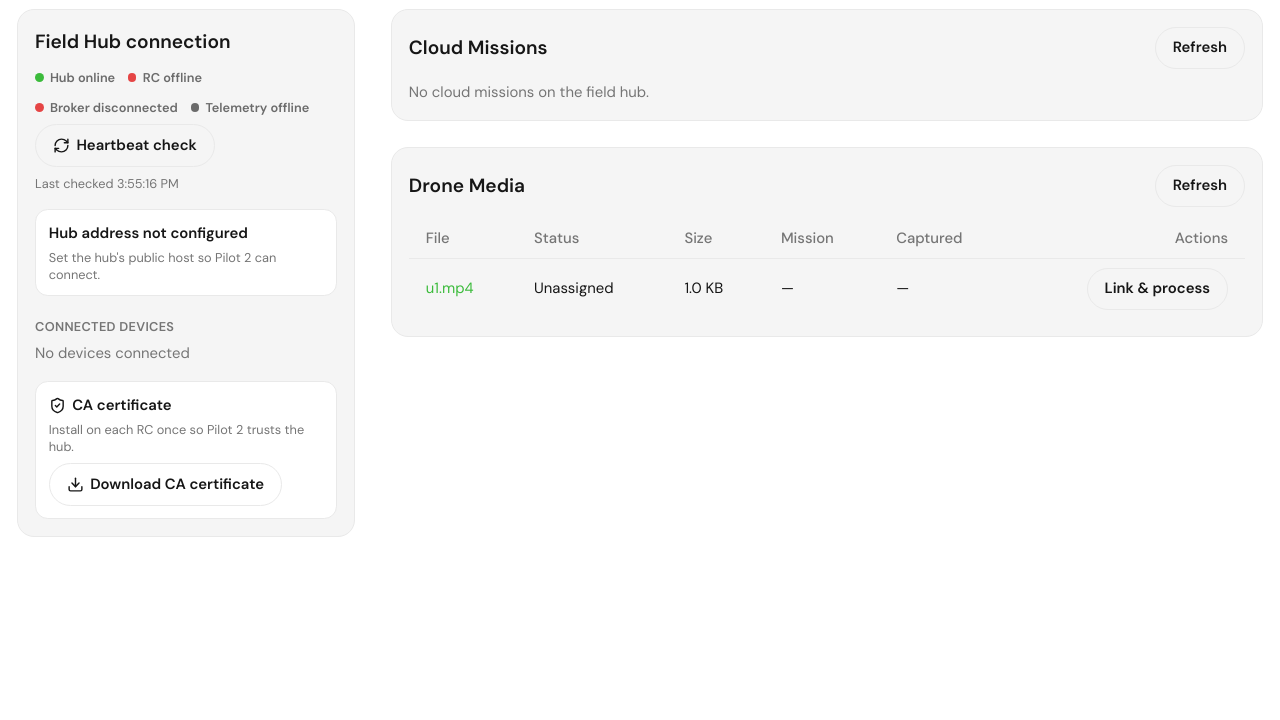
Test: FieldOpsPage › assigns before moving when the row has no mission yet
Click the button with test id "field-ops-link-toggle-u1": (1157,289) [1086,268,1228,310]
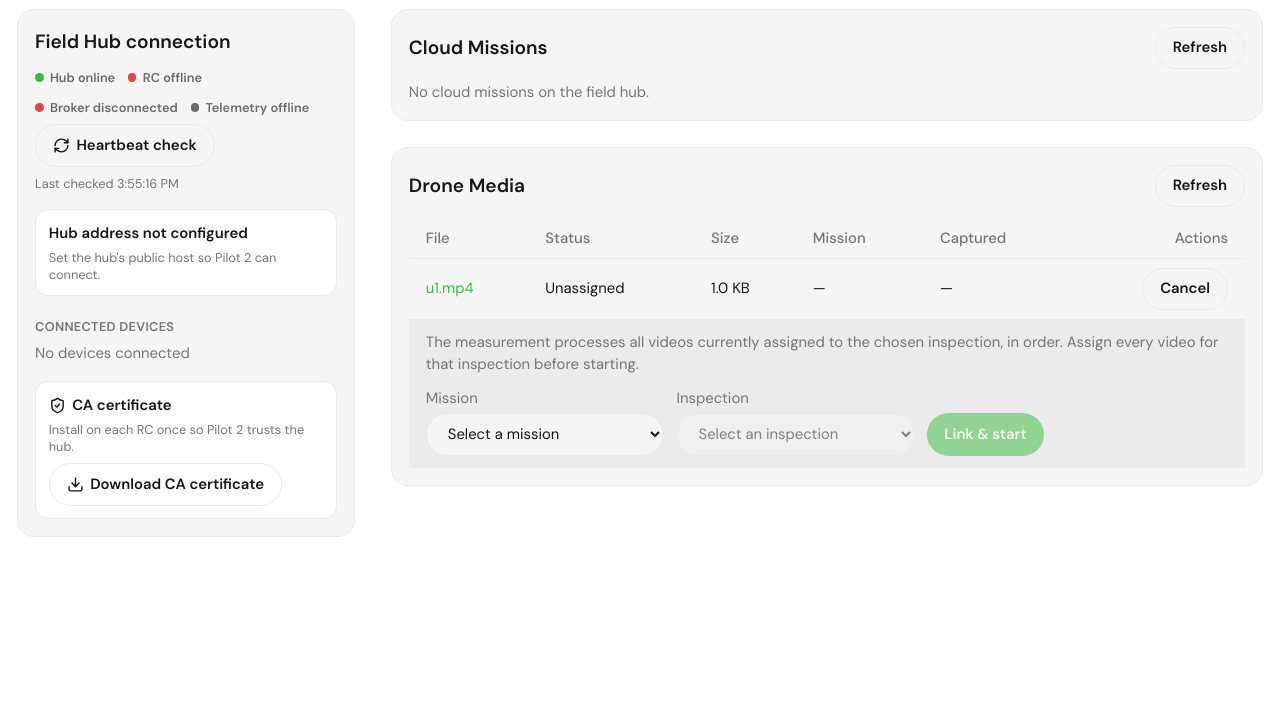
Select "Pick Me" in the dropdown with test id "field-ops-link-mission-u1": (545,434) [426,413,664,456]
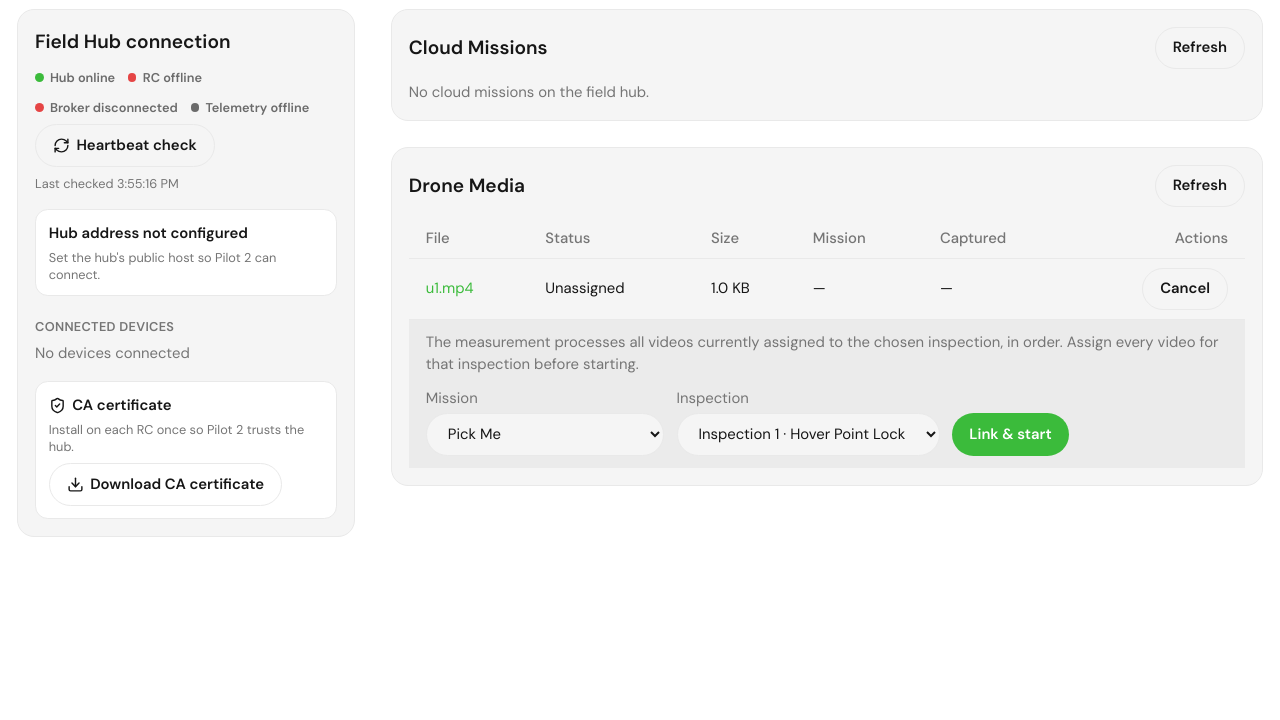
Click the button with test id "field-ops-link-confirm-u1": (1010,434) [952,413,1069,456]
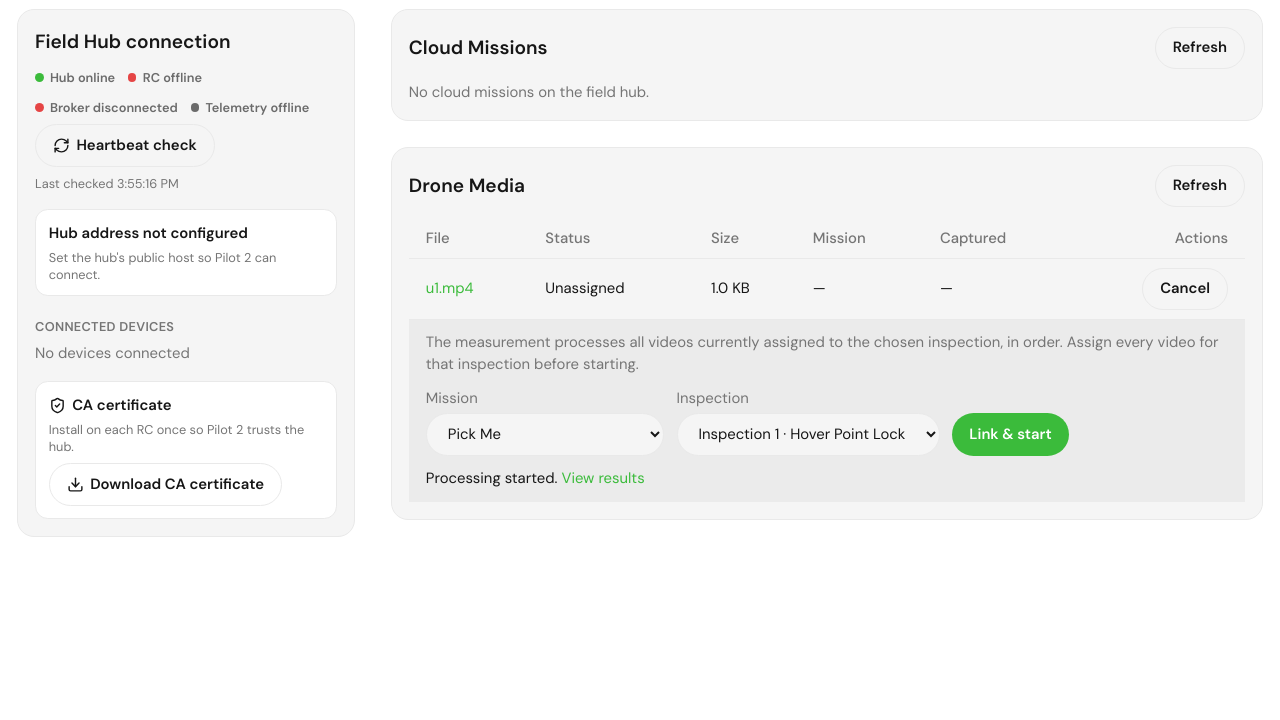
Expected: the element with test id "field-ops-link-success-u1" is shown, [426,468,645,488]
